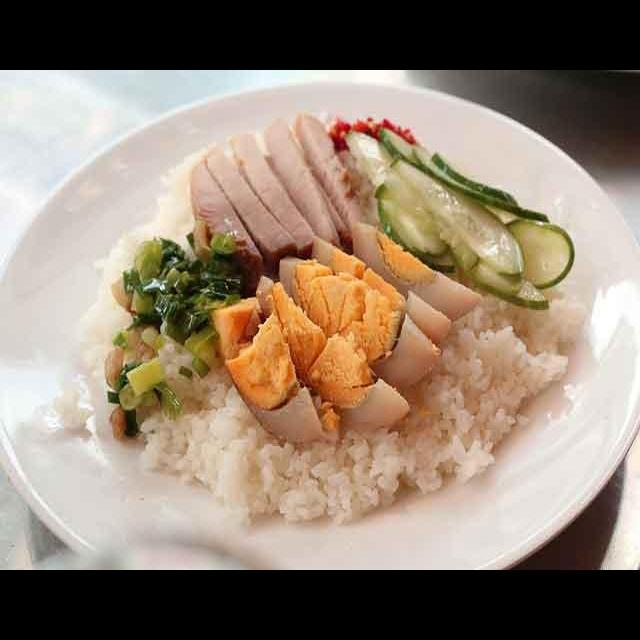com: (74, 217, 263, 533), (399, 261, 590, 500), (245, 423, 418, 527)
com suon trung: (46, 104, 634, 567)
suon: (185, 110, 381, 300)
trung: (275, 216, 486, 390), (204, 273, 413, 445)
